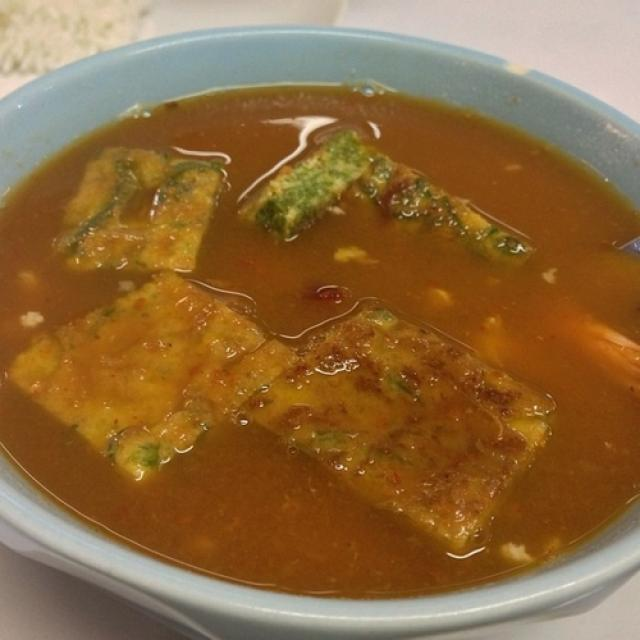汤锅炖物: (9, 34, 635, 616)
